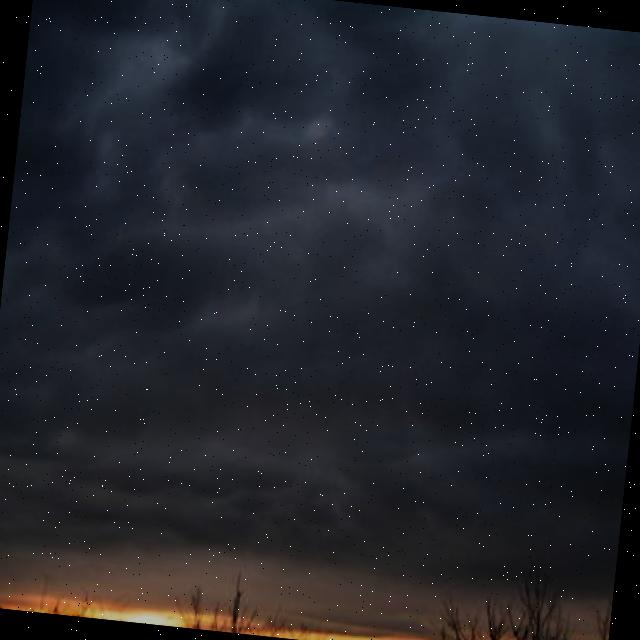Ac: (1, 1, 640, 560)
